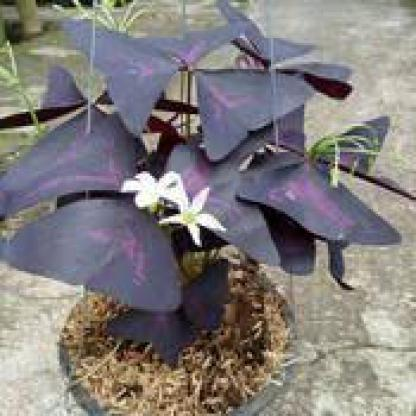Kupu-Kupu: (42, 134, 263, 310), (239, 87, 398, 267), (84, 15, 270, 156)
